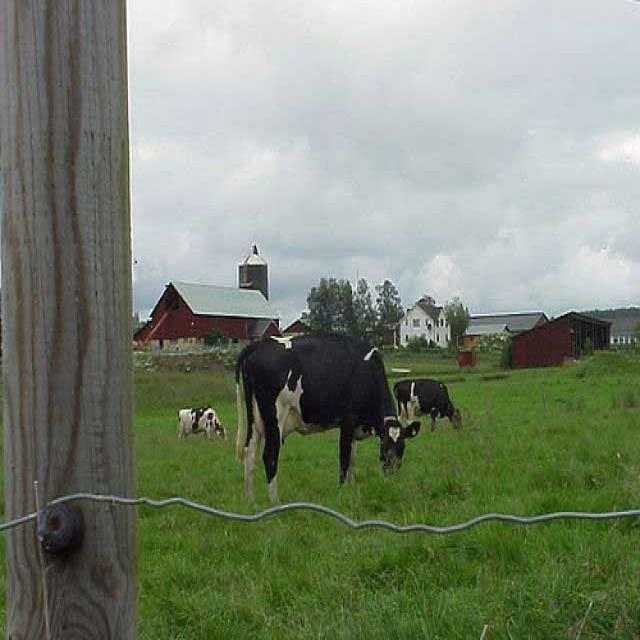cow: (234, 329, 416, 500), (392, 375, 462, 432), (174, 403, 227, 447)
